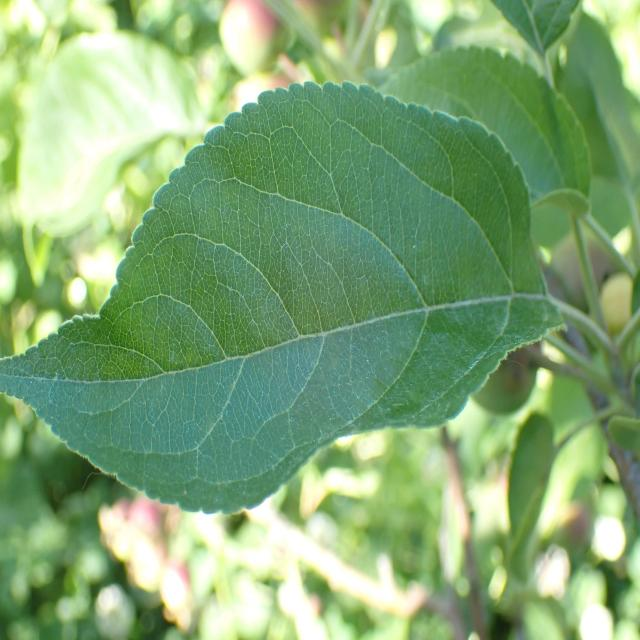healthy: (0, 80, 568, 516), (372, 45, 592, 211)
